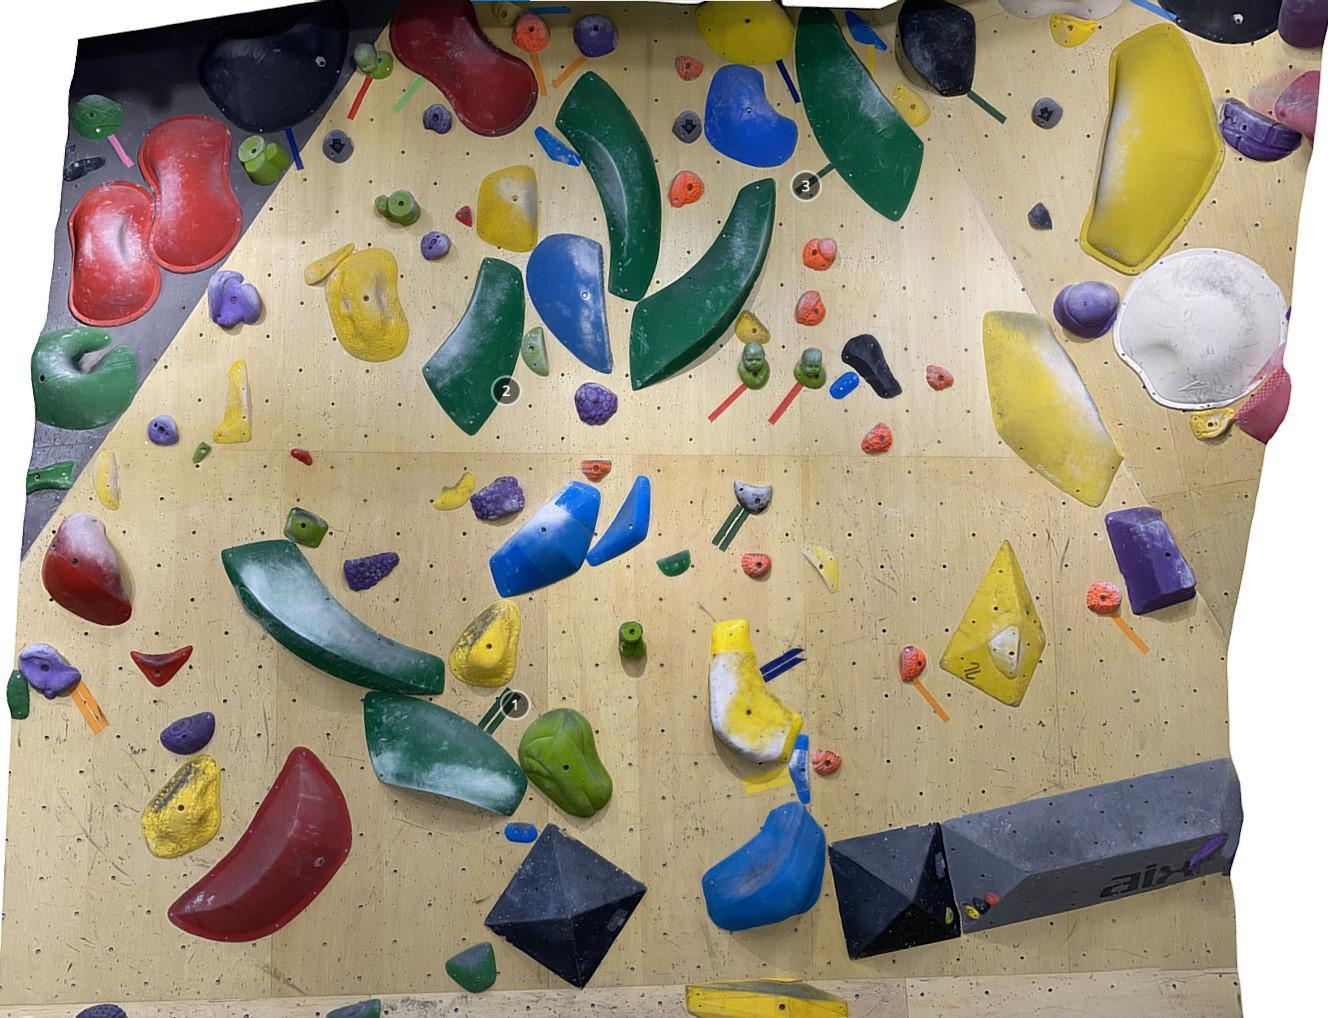hold: (941, 757, 1244, 934), (1080, 22, 1225, 276), (168, 746, 352, 942), (221, 540, 445, 696), (629, 179, 776, 390), (1112, 247, 1288, 411), (983, 310, 1124, 508), (796, 7, 925, 222), (484, 824, 647, 989), (555, 71, 661, 302), (388, 0, 539, 137), (365, 692, 527, 816), (197, 7, 351, 134), (828, 821, 961, 960), (422, 257, 525, 436), (939, 539, 1046, 707), (138, 114, 243, 274), (701, 801, 827, 931), (709, 619, 803, 767), (67, 181, 161, 327), (489, 480, 601, 598), (526, 233, 613, 373), (31, 326, 136, 430), (519, 708, 614, 818), (42, 511, 132, 626), (1105, 506, 1196, 615), (704, 64, 799, 168), (324, 248, 408, 361), (141, 753, 221, 859), (898, 0, 976, 96), (685, 977, 848, 1018), (448, 599, 521, 689), (694, 1, 796, 65), (586, 475, 650, 567), (1157, 0, 1282, 44), (477, 165, 539, 252), (1219, 96, 1301, 161), (1232, 365, 1291, 444), (840, 334, 902, 399), (1053, 280, 1119, 338), (18, 643, 80, 699), (213, 358, 251, 444), (1275, 71, 1319, 142), (207, 271, 261, 327), (130, 645, 194, 688), (237, 135, 291, 185), (445, 941, 496, 992), (997, 0, 1125, 20), (470, 475, 525, 520), (1278, 0, 1328, 48), (73, 94, 124, 140), (160, 711, 215, 754), (343, 552, 400, 591), (304, 244, 354, 286), (799, 542, 839, 593), (574, 382, 618, 427), (534, 126, 582, 167), (573, 14, 618, 57), (283, 507, 328, 549), (987, 626, 1021, 679), (892, 81, 930, 127), (432, 469, 475, 510), (845, 11, 887, 51), (26, 460, 75, 495), (1049, 14, 1097, 48), (1190, 406, 1236, 442), (375, 190, 421, 226), (92, 450, 119, 510), (737, 341, 770, 389), (512, 13, 551, 52), (788, 734, 809, 804), (354, 43, 393, 79), (793, 346, 827, 389), (668, 170, 705, 209), (521, 326, 549, 376), (1085, 580, 1123, 616), (734, 479, 772, 513), (735, 310, 771, 345), (6, 668, 30, 720), (1188, 835, 1222, 870), (802, 237, 837, 271), (794, 289, 825, 325), (899, 644, 927, 683), (63, 156, 106, 181), (618, 621, 647, 658), (326, 999, 381, 1018), (861, 421, 893, 453), (148, 415, 180, 446), (323, 129, 353, 163), (1032, 97, 1063, 128), (673, 110, 701, 143), (657, 549, 691, 576), (829, 371, 860, 400), (812, 746, 841, 775), (423, 104, 452, 134), (420, 231, 449, 260), (492, 1, 523, 28), (741, 553, 771, 579), (75, 1004, 128, 1018), (926, 364, 954, 390), (675, 55, 704, 80), (580, 460, 613, 481), (1028, 202, 1052, 230), (240, 586, 262, 616), (505, 823, 537, 843), (192, 442, 211, 463), (291, 448, 312, 465), (455, 205, 473, 227), (972, 897, 990, 914), (963, 904, 980, 920), (984, 892, 1000, 906), (945, 906, 955, 925)
